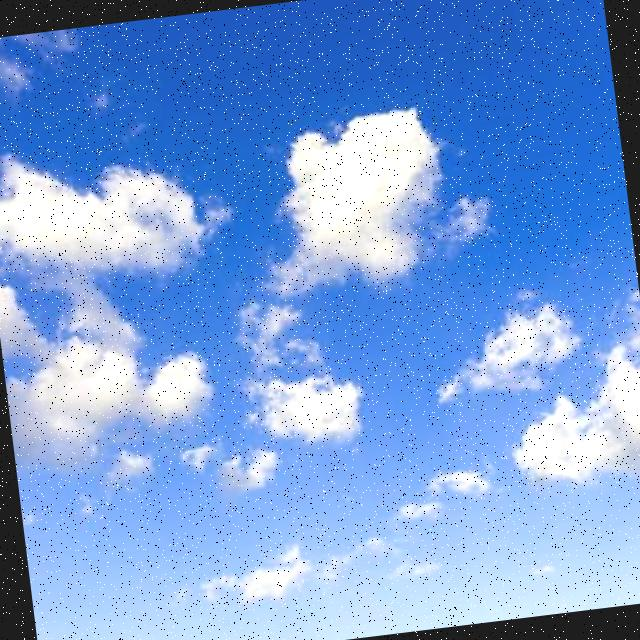Cc: (1, 92, 485, 499)
